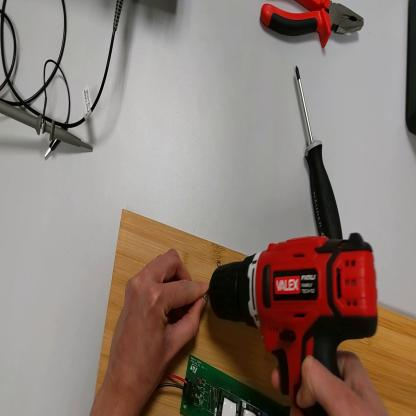electric screwdriver: (207, 233, 381, 416)
hand: (102, 248, 210, 409), (273, 350, 390, 414)
high voltage board: (157, 355, 293, 415)
oscilloscope probe tip: (1, 99, 95, 151)
pliers: (262, 1, 367, 49)
screwdriver-: (297, 64, 343, 239)
welder station: (406, 1, 416, 136)
working area: (94, 211, 416, 416)
